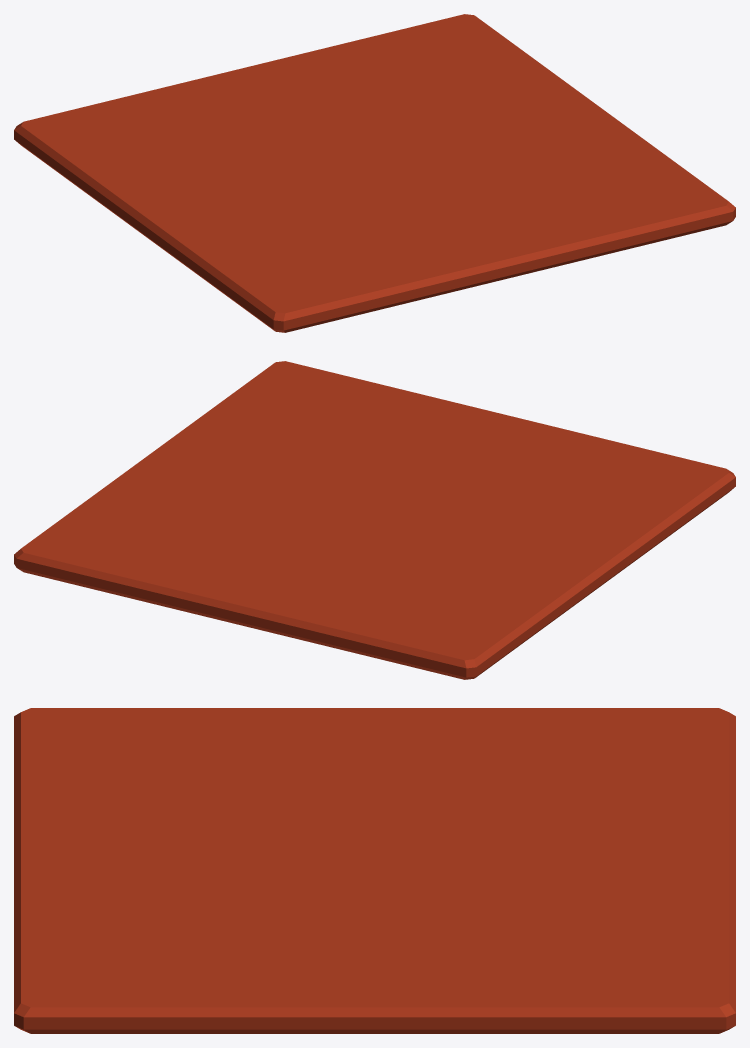
The picture shows the model from 3 angles, top to bottom: view 1: azimuth 30°, elevation 25°; view 2: azimuth 150°, elevation 25°; view 3: azimuth 270°, elevation 25°; orthographic projection. The views are drawn at different scales.
Parts seen in each view (by area): view 1: Sp_Mat_2; view 2: Sp_Mat_2; view 3: Sp_Mat_2.
Boxes of the visible parts, bbox=[...] form: Sp_Mat_2: bbox=[14, 14, 735, 332]; Sp_Mat_2: bbox=[14, 361, 735, 679]; Sp_Mat_2: bbox=[14, 708, 735, 1033].
Size of the model in its own units: 1 by 0.0405 by 1.
1 material, 1 textured.
